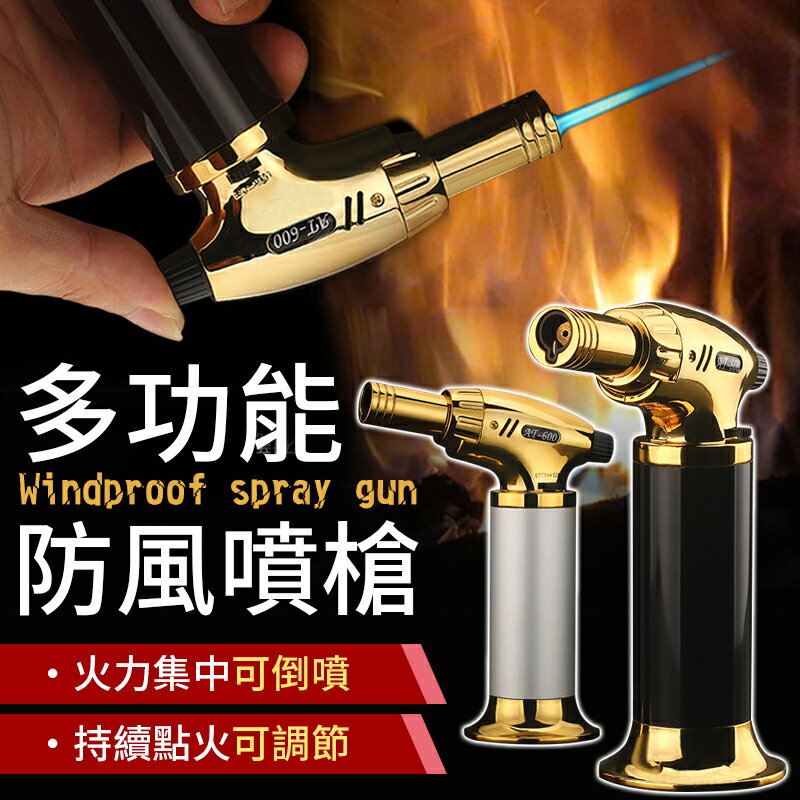gastorch: (58, 7, 578, 321), (530, 295, 787, 799), (351, 353, 616, 757)
